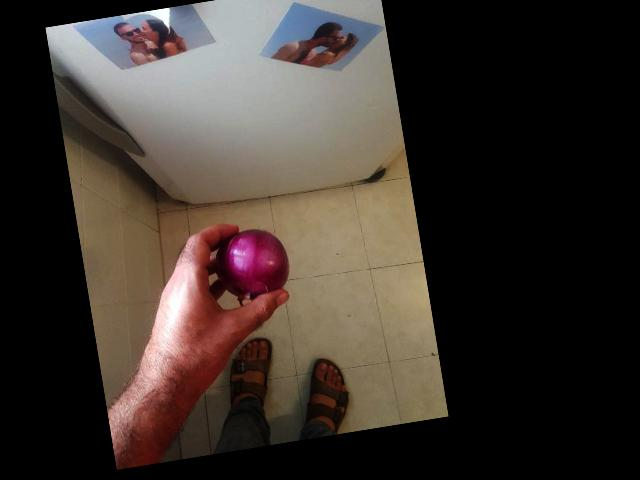onion: (212, 217, 293, 301)
